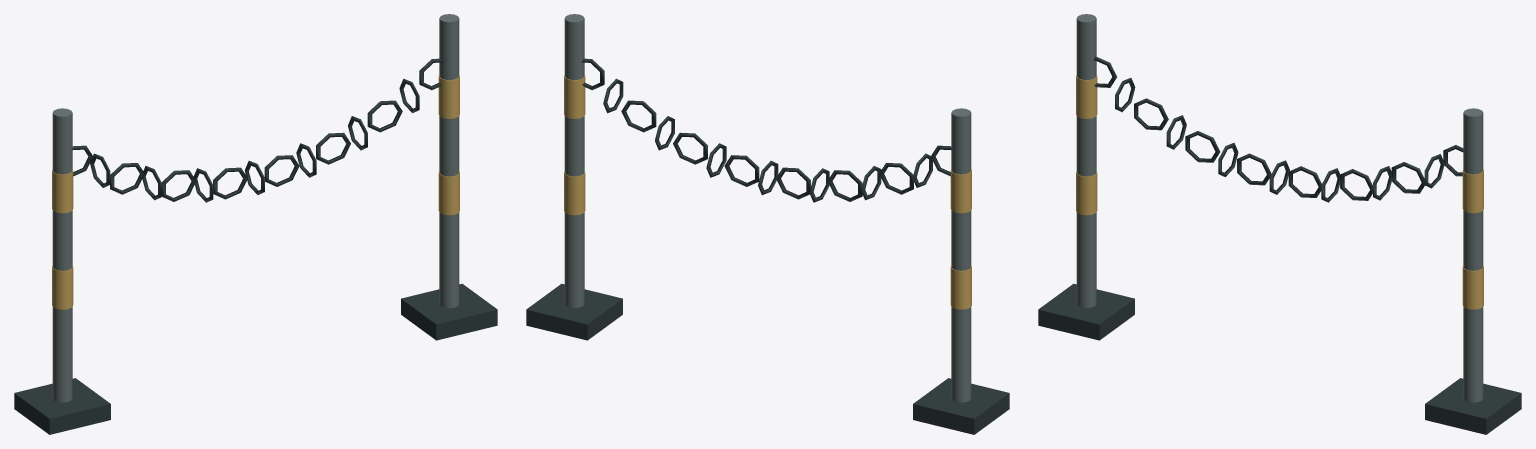
3 renders of one model, left to right at view 1: azimuth 30°, elevation 25°; view 2: azimuth 150°, elevation 25°; view 3: azimuth 330°, elevation 25°, orthographic.
Parts seen in each view (by area): view 1: part-2, part-6, part-1, part-5, part-4, part-3, part-7, part-8; view 2: part-2, part-6, part-1, part-5, part-4, part-3, part-7, part-8; view 3: part-6, part-2, part-5, part-1, part-8, part-3, part-7, part-4.
Boxes of the visible parts, <box> form: part-2: <box>52,108,72,402</box>; part-6: <box>439,14,459,308</box>; part-1: <box>14,378,110,434</box>; part-5: <box>401,283,497,340</box>; part-4: <box>52,170,73,213</box>; part-3: <box>52,266,73,309</box>; part-7: <box>438,172,459,215</box>; part-8: <box>438,75,459,118</box>; part-2: <box>951,108,971,402</box>; part-6: <box>564,14,584,308</box>; part-1: <box>913,378,1009,434</box>; part-5: <box>526,283,622,340</box>; part-4: <box>950,170,971,213</box>; part-3: <box>950,266,971,309</box>; part-7: <box>564,172,585,215</box>; part-8: <box>564,75,585,118</box>; part-6: <box>1463,108,1483,402</box>; part-2: <box>1076,14,1096,308</box>; part-5: <box>1425,378,1521,434</box>; part-1: <box>1038,283,1134,340</box>; part-8: <box>1462,170,1483,213</box>; part-3: <box>1076,172,1097,215</box>; part-7: <box>1462,266,1483,309</box>; part-4: <box>1076,75,1097,118</box>.
Bounding box in the file's own units: 1.46 × 0.94 × 0.2.
